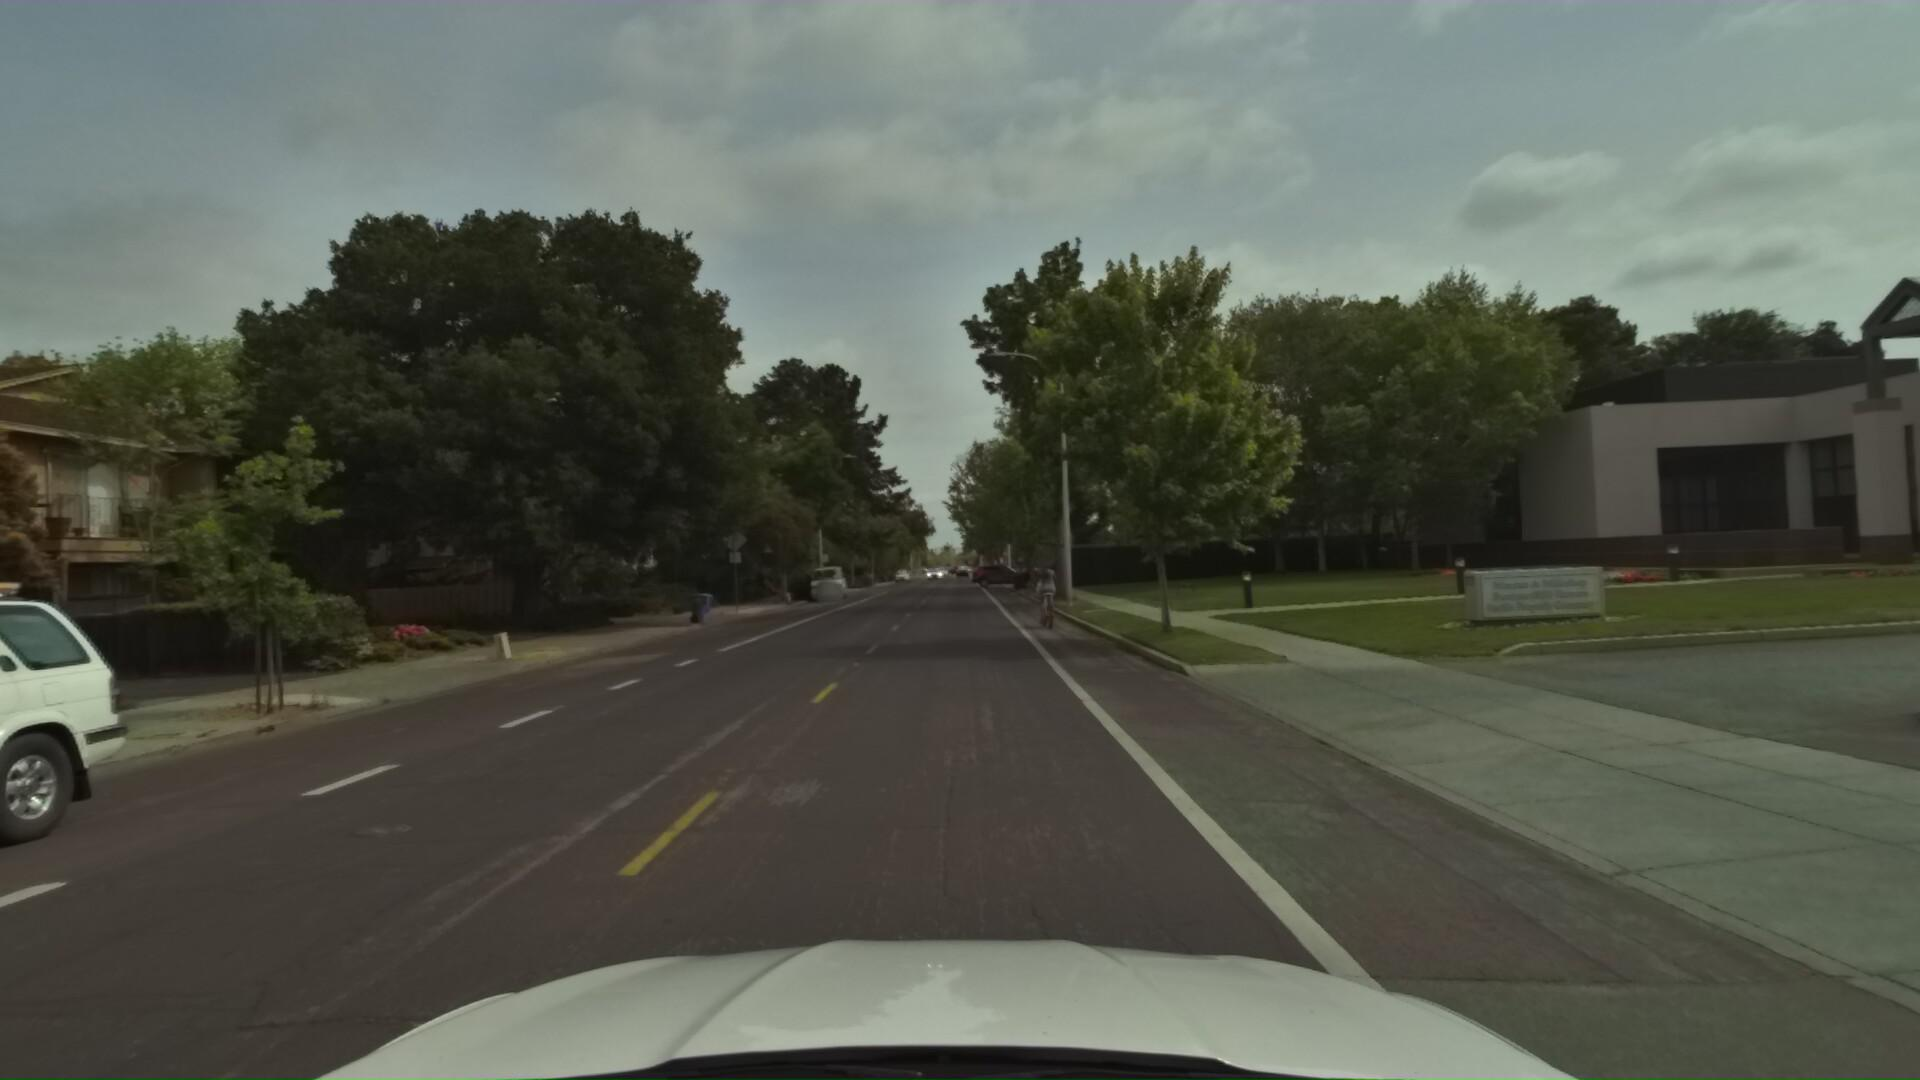bicycle: (1018, 556, 1071, 632)
car: (0, 566, 128, 1080), (967, 562, 1042, 593), (804, 564, 851, 605)
